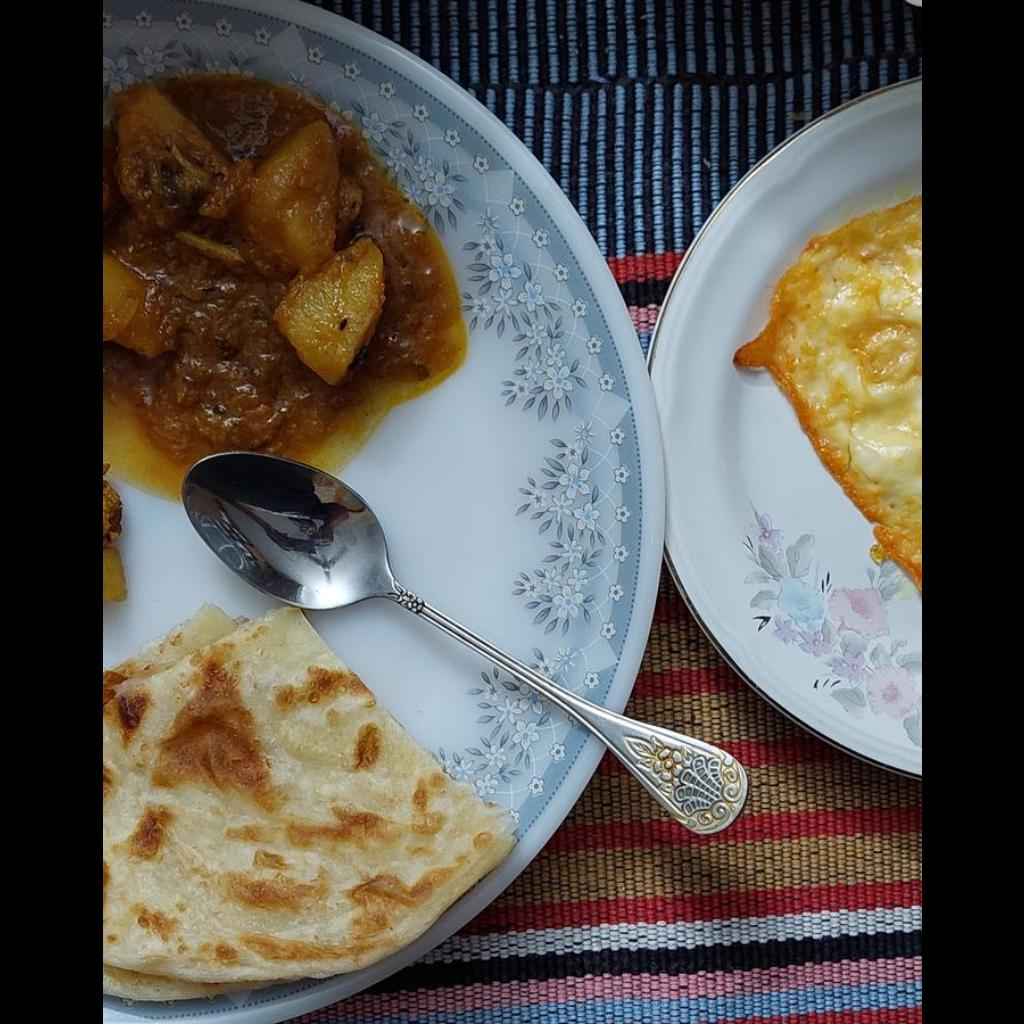chicken: (103, 73, 453, 446)
egg-poached: (734, 196, 920, 588)
ruti: (103, 606, 516, 1001)
